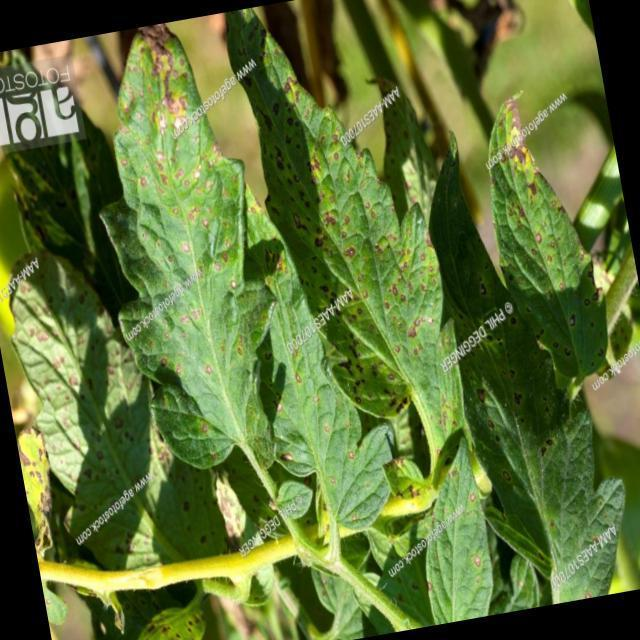Septoria: (252, 16, 456, 451), (88, 18, 271, 478), (0, 229, 167, 541), (474, 78, 618, 384), (441, 247, 572, 504)
